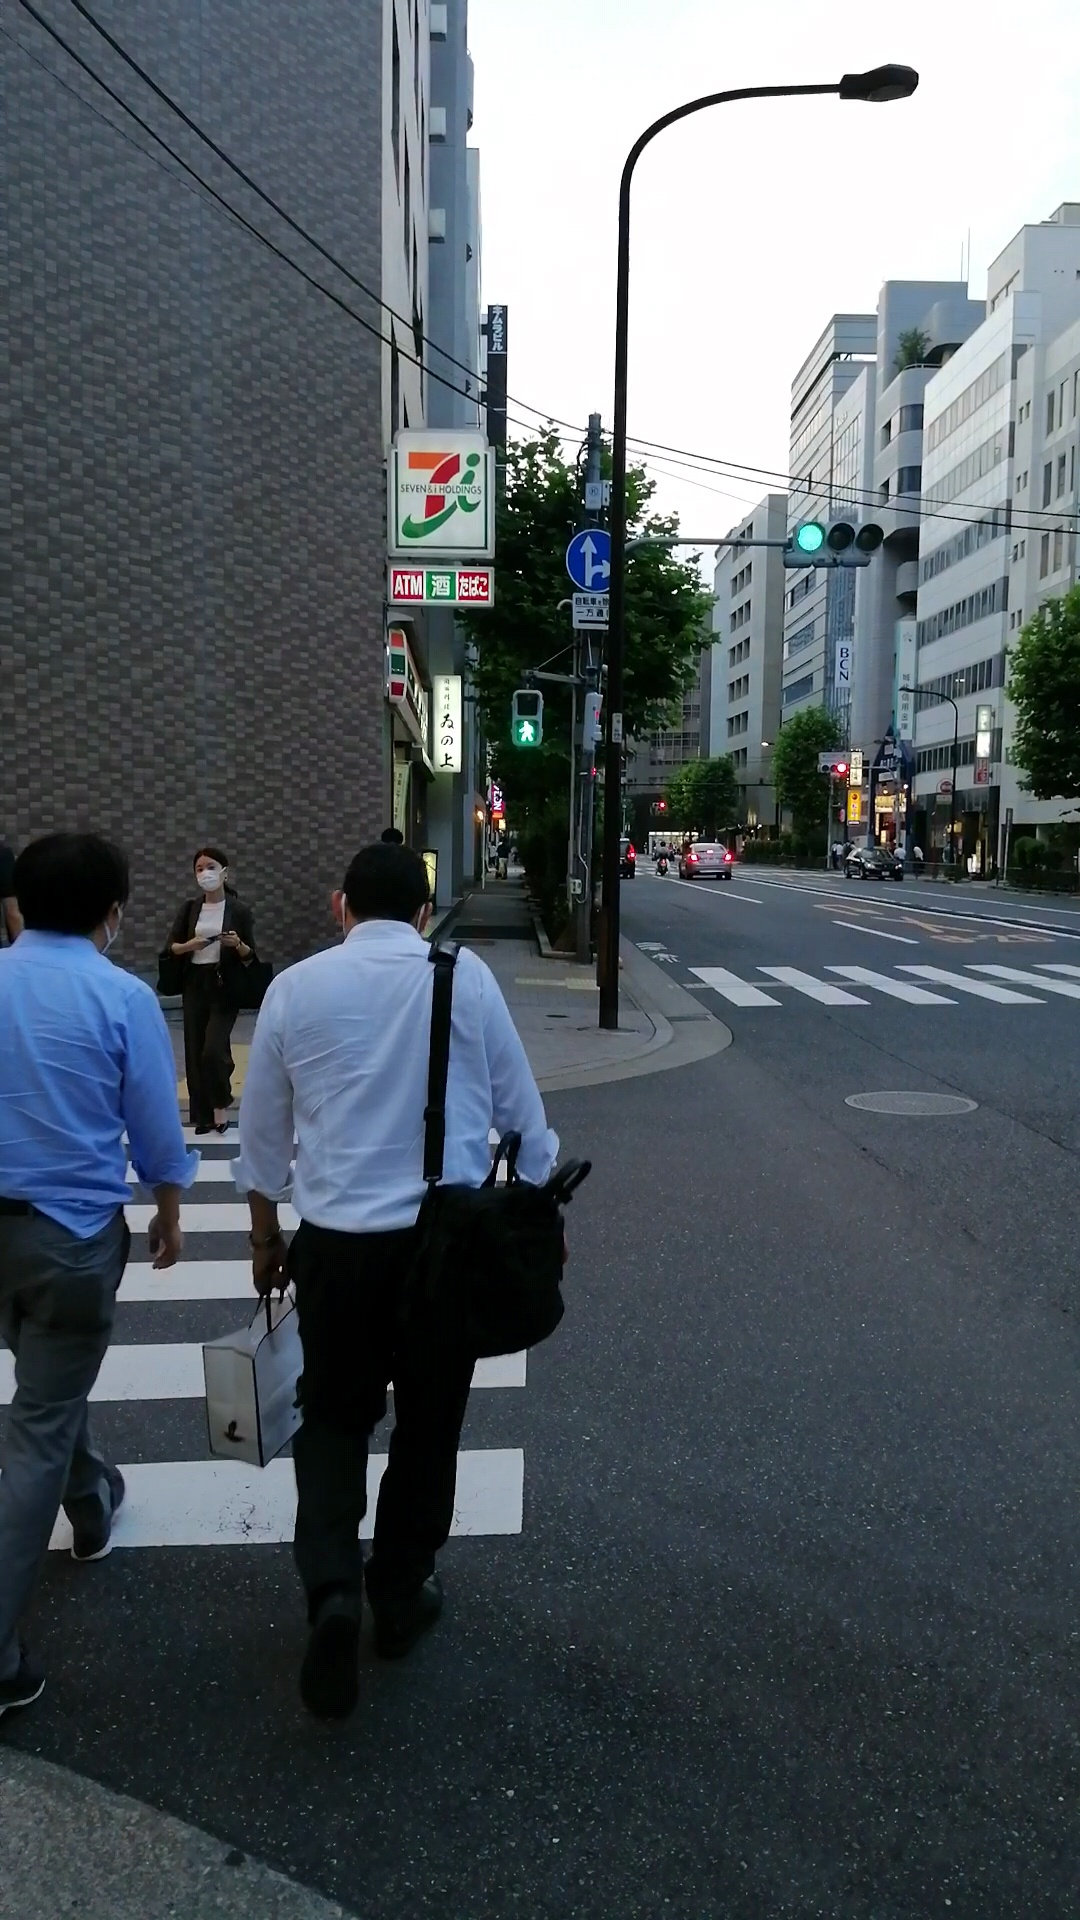green: (512, 688, 543, 746)
